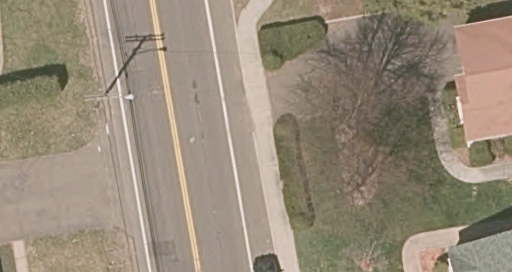DT: (82, 76, 134, 113)
